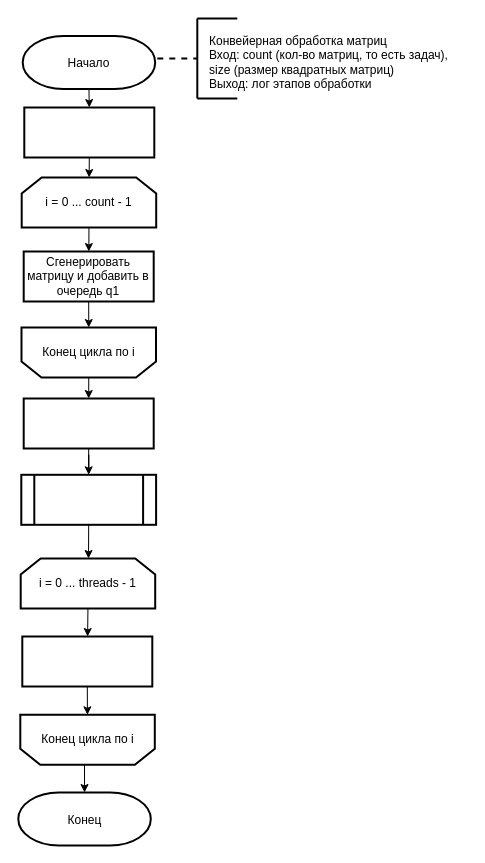
This 485x863 diagram has some shape labels left out. Each missing label, with the centre of its shape:
Назначить i - ому потоку i - ый этап обработки, i = 0...3: the point at 88,499
Ожидание завершения i-ого потока: the point at 87,661
Создать 3 очереди (ленты) конвейера q1, q2, q3: the point at 89,132
Создать массив для 3 потоков: the point at 88,423
